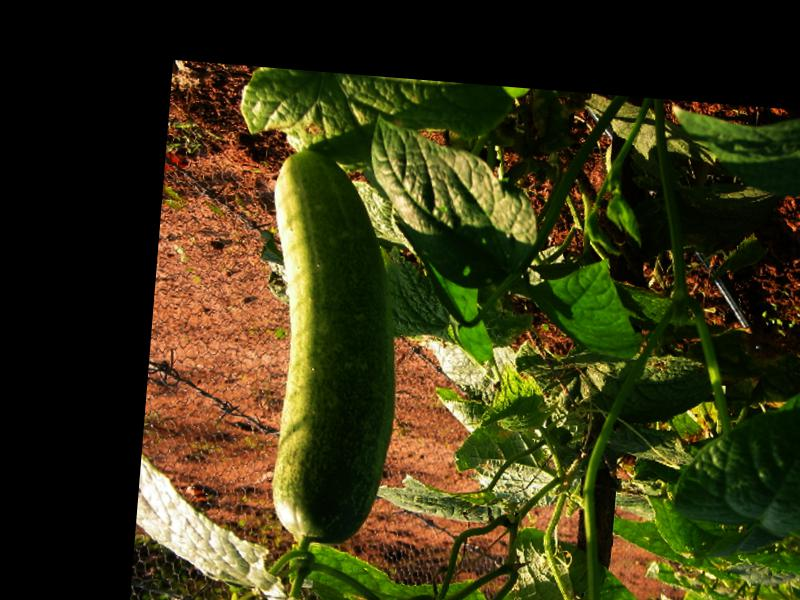Cucumber: (247, 149, 413, 546)
